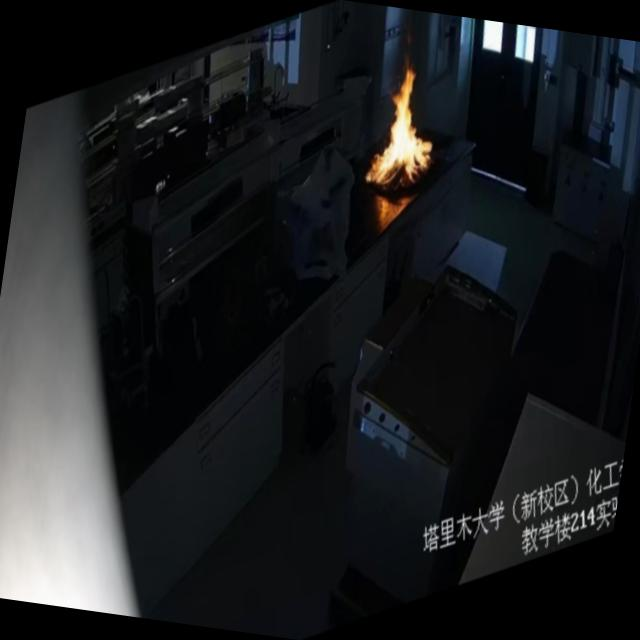fire: (328, 8, 479, 250)
